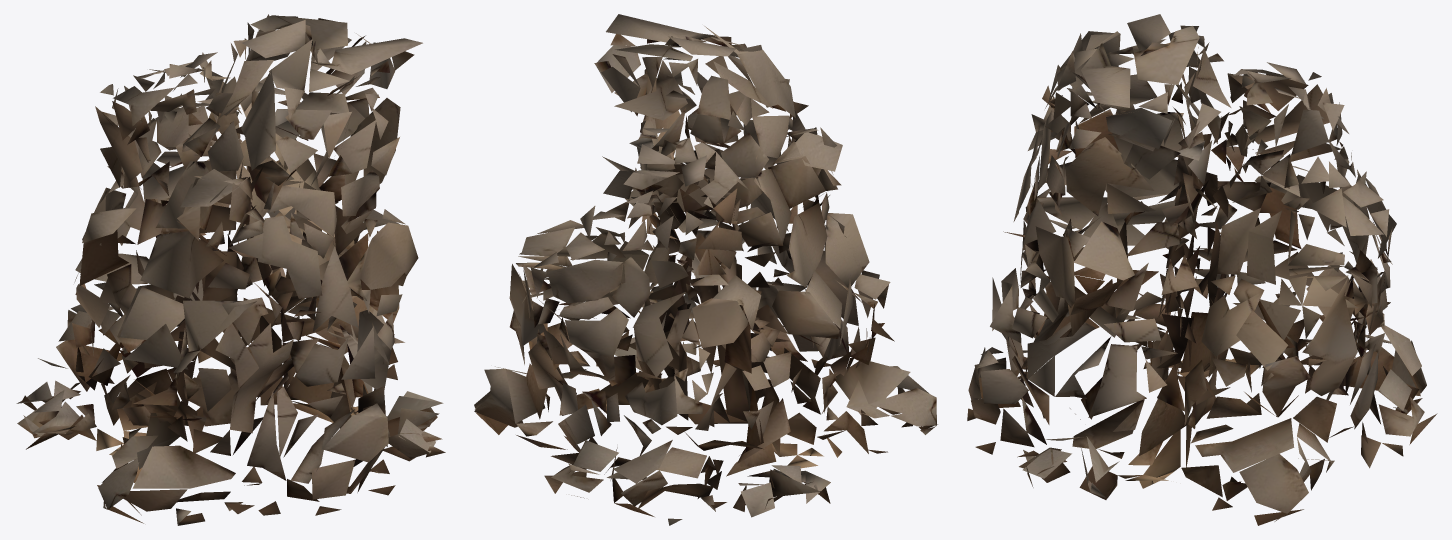
File: ch9_tectonic_fault_rock_LOD3.glb
3 renders of one model, left to right at view 1: azimuth 30°, elevation 25°; view 2: azimuth 150°, elevation 25°; view 3: azimuth 270°, elevation 25°, orthographic. The views are drawn at different scales.
Visible parts, largest first — view 1: tripo_node_c82a8420-657e-4b54-bbeb-f1ab4b4a74dd; view 2: tripo_node_c82a8420-657e-4b54-bbeb-f1ab4b4a74dd; view 3: tripo_node_c82a8420-657e-4b54-bbeb-f1ab4b4a74dd.
Boxes of the visible parts, x1,y1,x2,y2 form: tripo_node_c82a8420-657e-4b54-bbeb-f1ab4b4a74dd: (16, 14, 445, 525); tripo_node_c82a8420-657e-4b54-bbeb-f1ab4b4a74dd: (474, 14, 937, 525); tripo_node_c82a8420-657e-4b54-bbeb-f1ab4b4a74dd: (967, 14, 1437, 525).
Bounding box in the file's own units: 1.01 × 1.01 × 1.01.
1 material, 1 textured.
